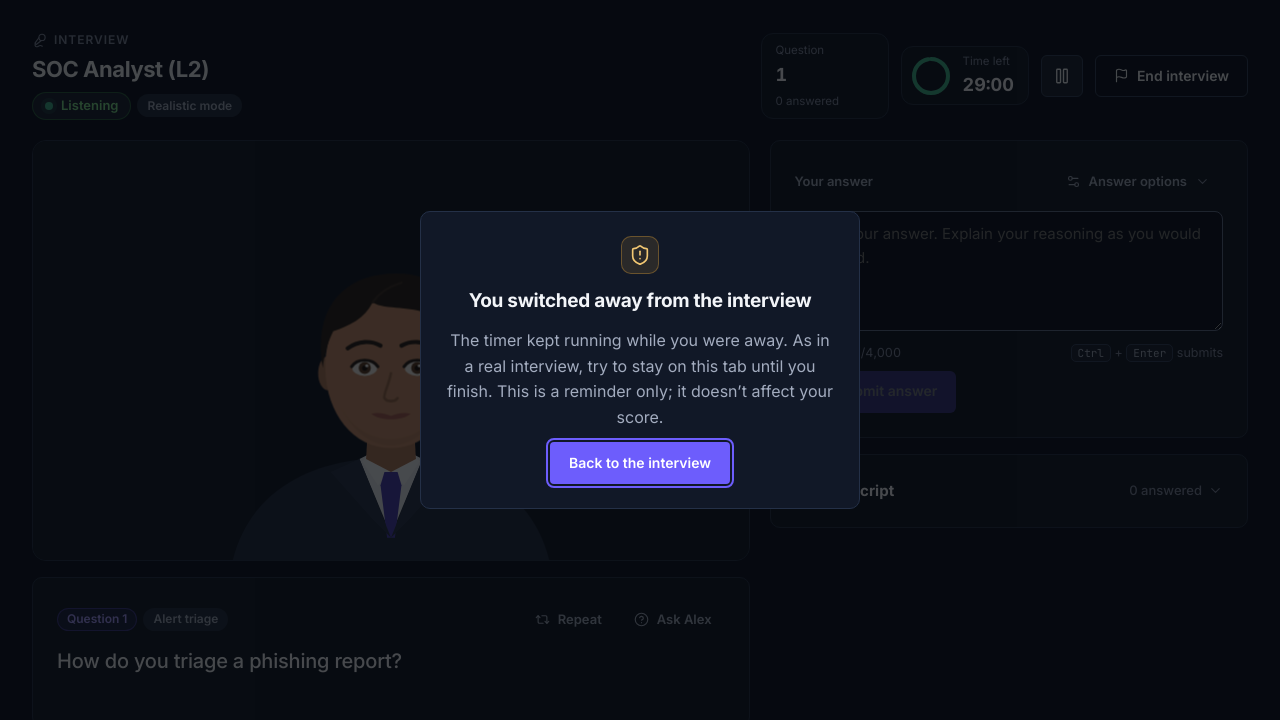
Test case: tab-switch guard › warns when the candidate comes back after switching tabs, and counts repeats
Expected: the dialog "switched away from the interview" shows "doesn’t affect your score", [492,381,833,427]
Expected: the dialog "switched away from the interview" does not show "times.", [420,211,860,509]
Focus stays inside the dialog.
Press Tab
Click the button "Back to the interview" at point(640, 463), box [550,442,730,484]
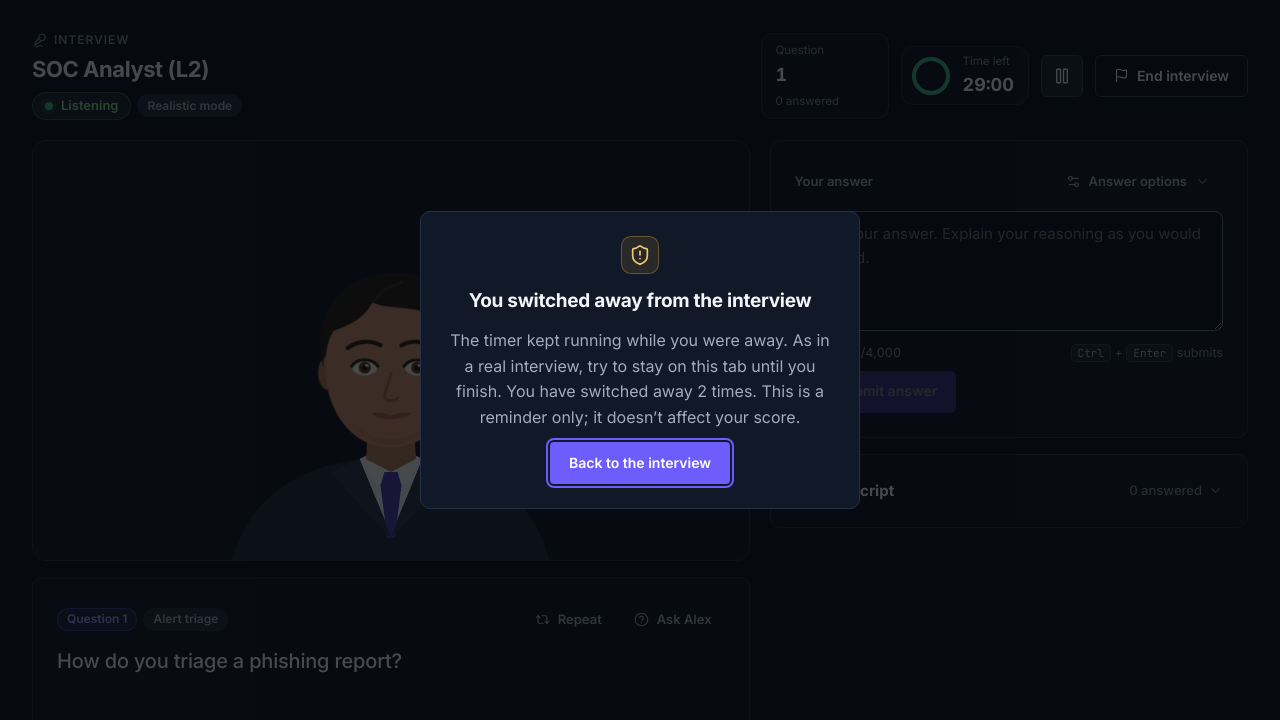
Expected: the dialog shows "You have switched away 2 times.", [502,381,757,401]
Press Escape
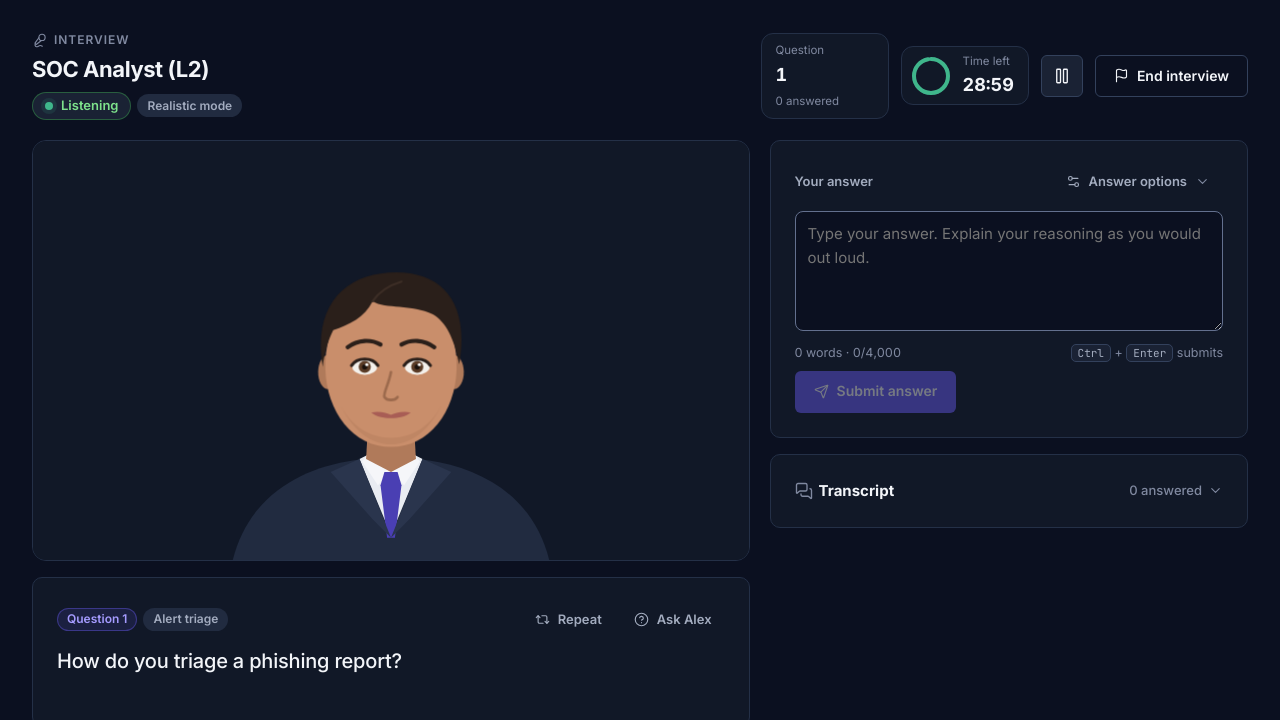
Expected: the dialog is gone
